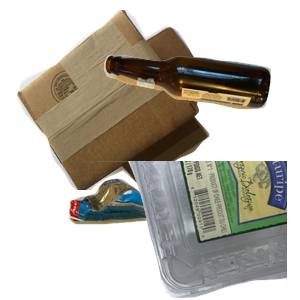cardboard: (14, 10, 222, 190)
glass: (101, 52, 300, 154)
plastic: (60, 161, 300, 300)
trash: (66, 173, 272, 300)
